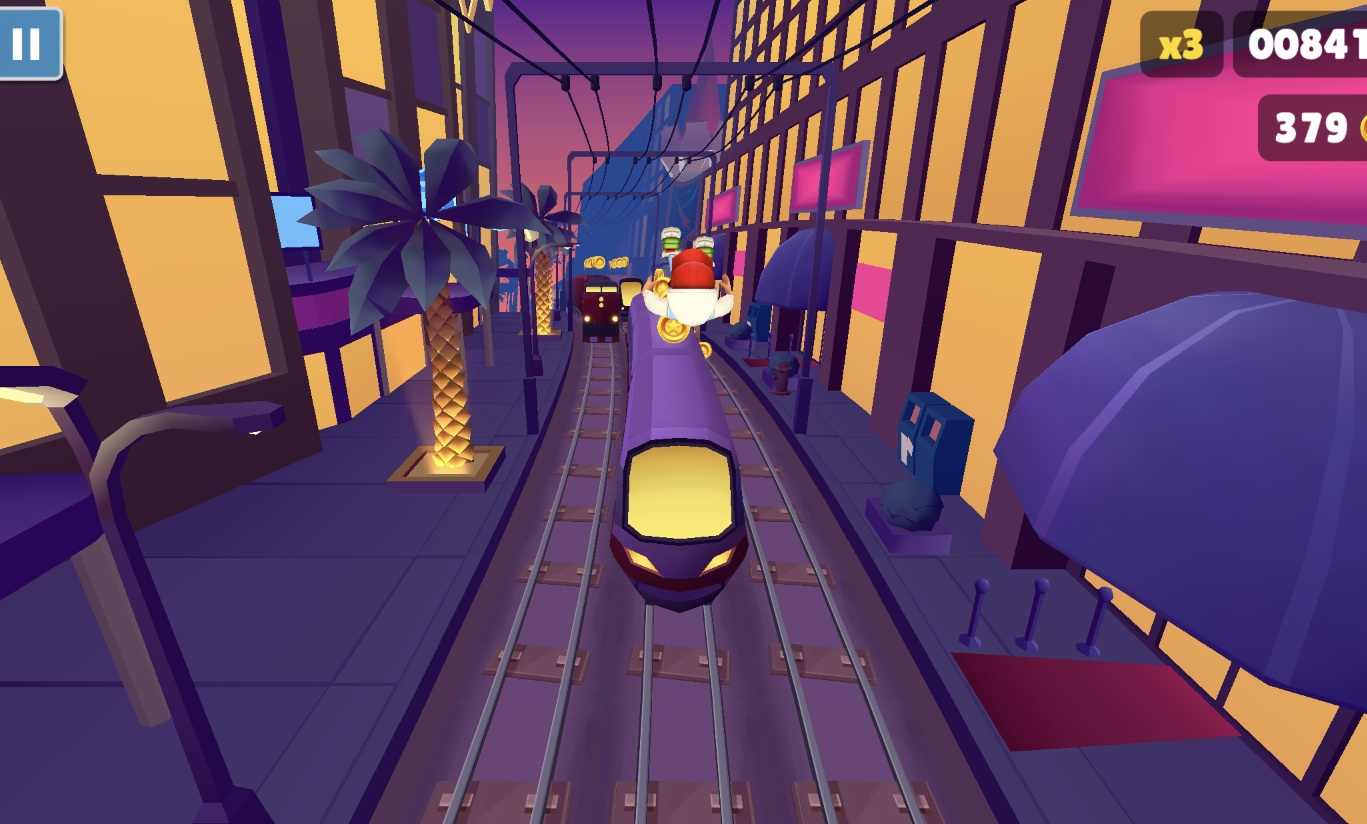train: (608, 280, 755, 615), (576, 275, 623, 344), (619, 278, 647, 327)
